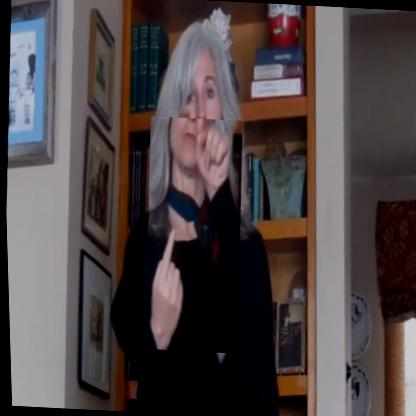NiceToMeetYou: (137, 116, 247, 354)
